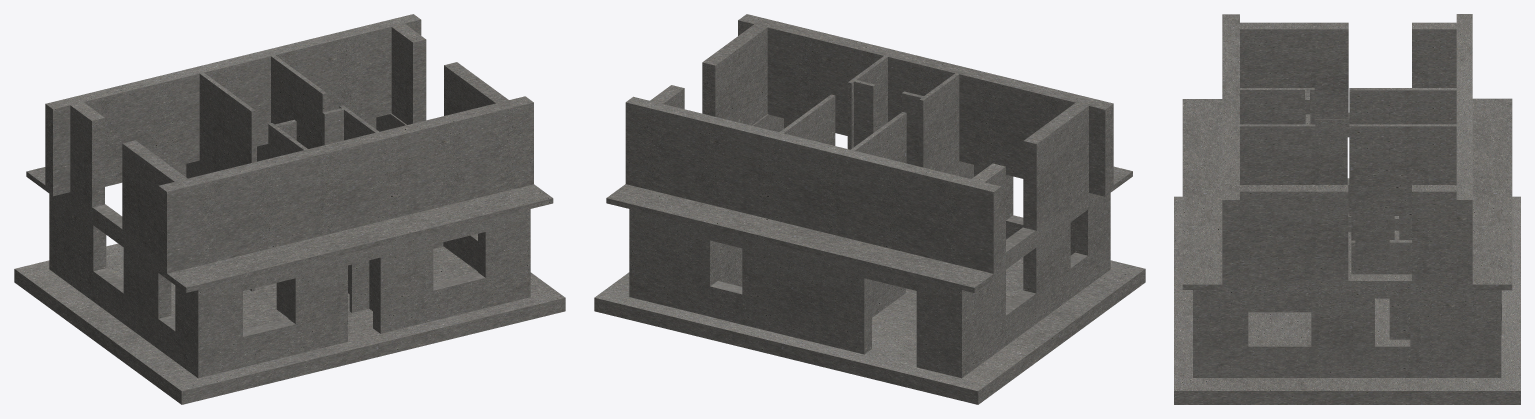
The model's file is Монолит.fbx.
The picture shows the model from 3 angles, left to right: view 1: azimuth 30°, elevation 25°; view 2: azimuth 150°, elevation 25°; view 3: azimuth 270°, elevation 25°; orthographic projection. The views are drawn at different scales.
Parts seen in each view (by area): view 1: 2й этаж, 1й этаж, 1й этаж пол, свес спереди; view 2: 2й этаж, 1й этаж, 1й этаж пол, свес сзади; view 3: 2й этаж, 1й этаж, 1й этаж пол, свес сзади, свес спереди.
Part boxes in pixels (x1=…): 2й этаж: x1=45, y1=14, x2=533, y2=278; 1й этаж: x1=49, y1=113, x2=530, y2=378; 1й этаж пол: x1=14, y1=243, x2=565, y2=404; свес спереди: x1=167, y1=184, x2=553, y2=292; 2й этаж: x1=625, y1=14, x2=1113, y2=278; 1й этаж: x1=629, y1=114, x2=1110, y2=378; 1й этаж пол: x1=594, y1=257, x2=1145, y2=404; свес сзади: x1=606, y1=184, x2=993, y2=292; 2й этаж: x1=1222, y1=14, x2=1472, y2=290; 1й этаж: x1=1193, y1=113, x2=1501, y2=377; 1й этаж пол: x1=1174, y1=196, x2=1520, y2=404; свес сзади: x1=1472, y1=98, x2=1512, y2=290; свес спереди: x1=1182, y1=99, x2=1222, y2=289.
Bounding box in the file's own units: 1155 × 558 × 873.
